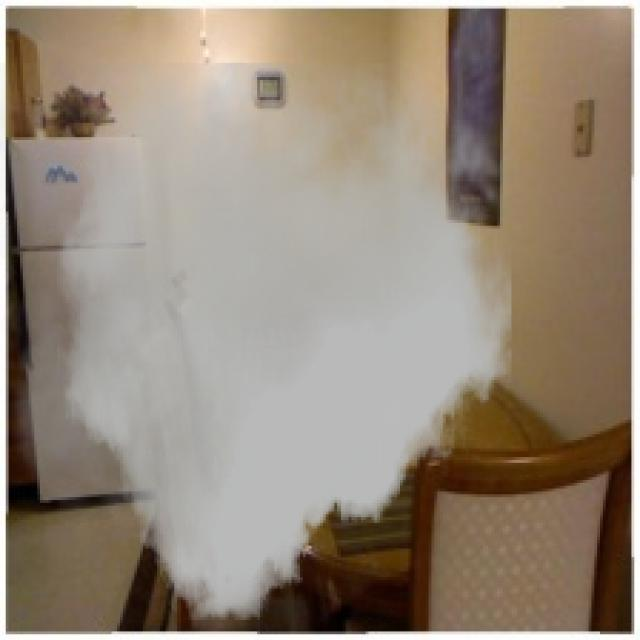smoke: (0, 63, 520, 620)
